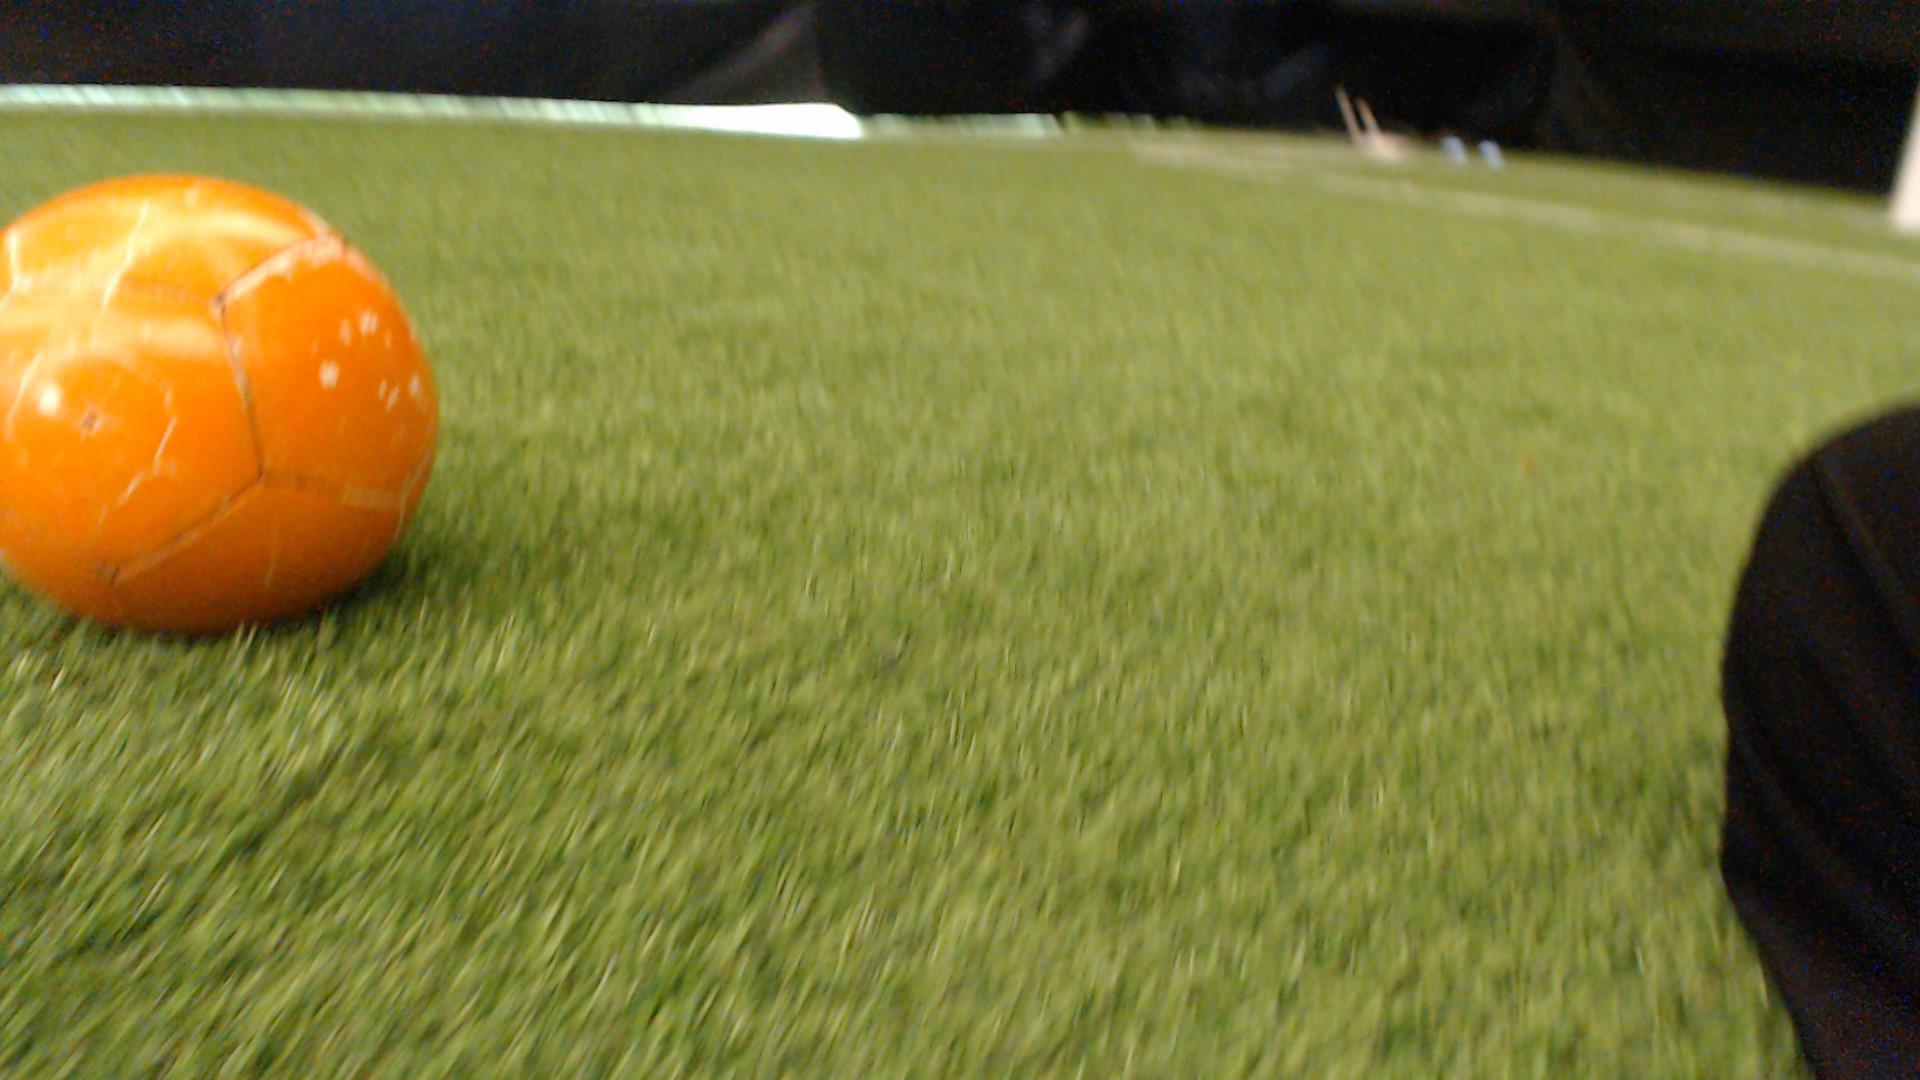bola: (0, 159, 476, 668)
